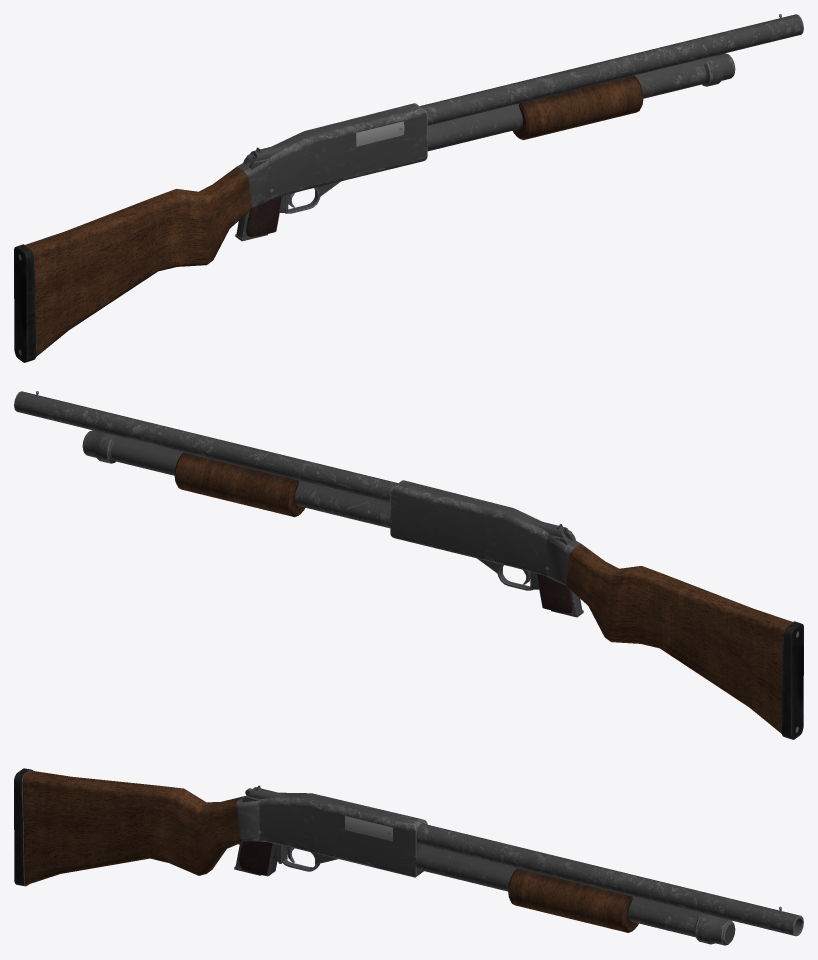
The model's file is bron_cc0.glb.
The picture shows the model from 3 angles, top to bottom: view 1: azimuth 30°, elevation 25°; view 2: azimuth 150°, elevation 25°; view 3: azimuth 330°, elevation 25°; orthographic projection.
Parts seen in each view (by area): view 1: strzelba, dwururka__kolba, strzelba__czolenko, pistolet; view 2: strzelba, dwururka__kolba, strzelba__czolenko, pistolet; view 3: strzelba, dwururka__kolba, strzelba__czolenko, pistolet, pistolet__zamek.
Part boxes in pixels (<box>): strzelba: <box>237,14,803,213</box>; dwururka__kolba: <box>14,158,270,362</box>; strzelba__czolenko: <box>512,75,643,140</box>; pistolet: <box>246,196,282,237</box>; strzelba: <box>14,391,579,590</box>; dwururka__kolba: <box>547,533,803,739</box>; strzelba__czolenko: <box>174,452,305,517</box>; pistolet: <box>536,573,572,613</box>; strzelba: <box>237,792,803,945</box>; dwururka__kolba: <box>14,768,260,886</box>; strzelba__czolenko: <box>508,868,638,932</box>; pistolet: <box>239,841,277,876</box>; pistolet__zamek: <box>242,785,285,802</box>.
Size of the model in its own units: 1.22 by 0.2408 by 0.0562.
2 materials, 2 textured.
